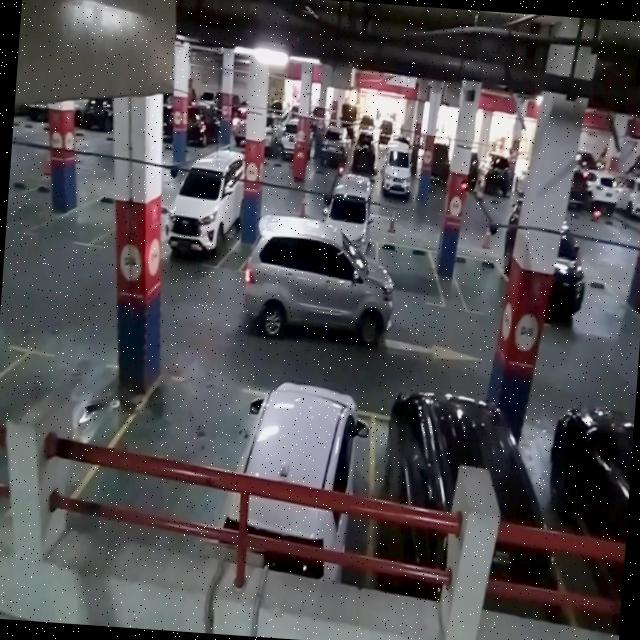empty: (108, 367, 266, 547), (0, 342, 122, 494), (370, 239, 450, 307), (450, 252, 512, 316)
occupied: (359, 391, 550, 604), (228, 384, 379, 588), (163, 158, 245, 272)
